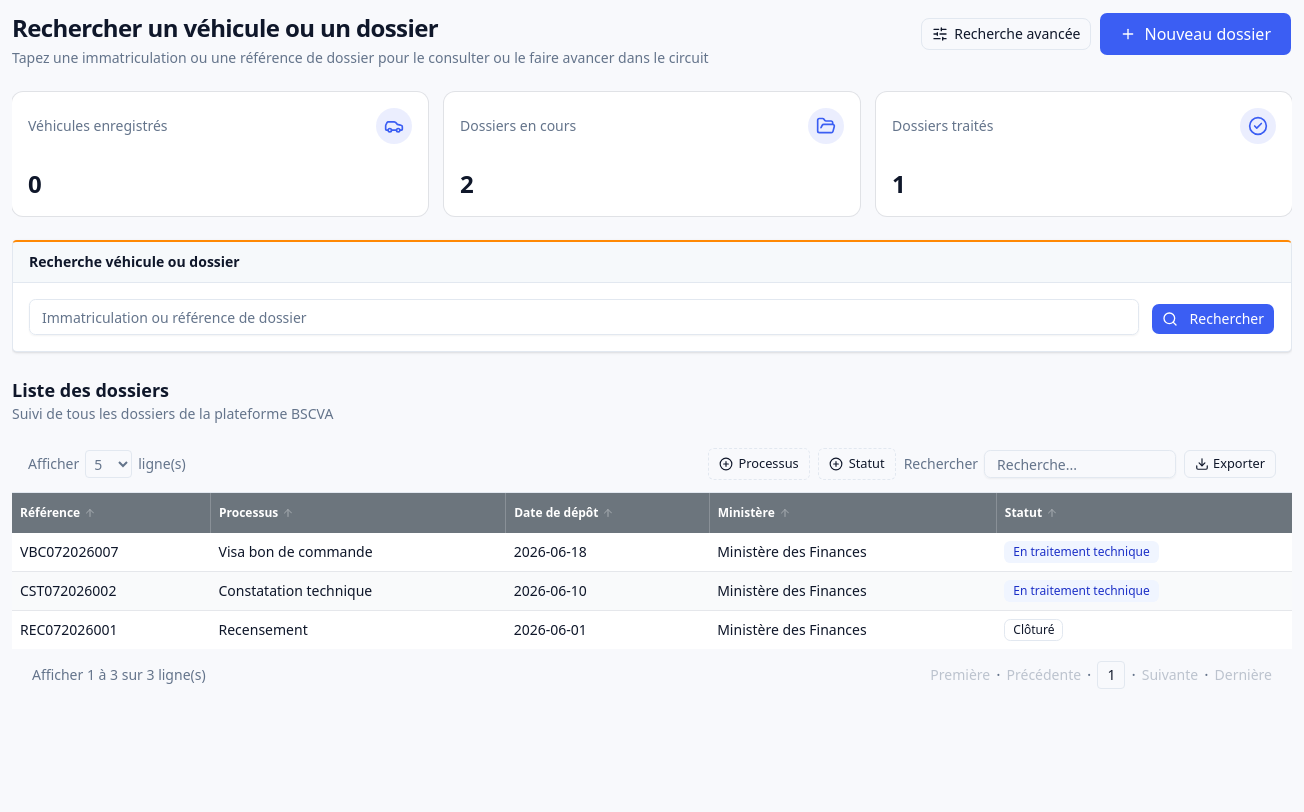
it: TraitementDossierPage — recherche par référence unique › shows a not-found message for an unknown reference
Type "INCONNU0000" into the field with test id "traitement-dossier-search-input". click: (584, 317)
box: [29,299,1139,335]
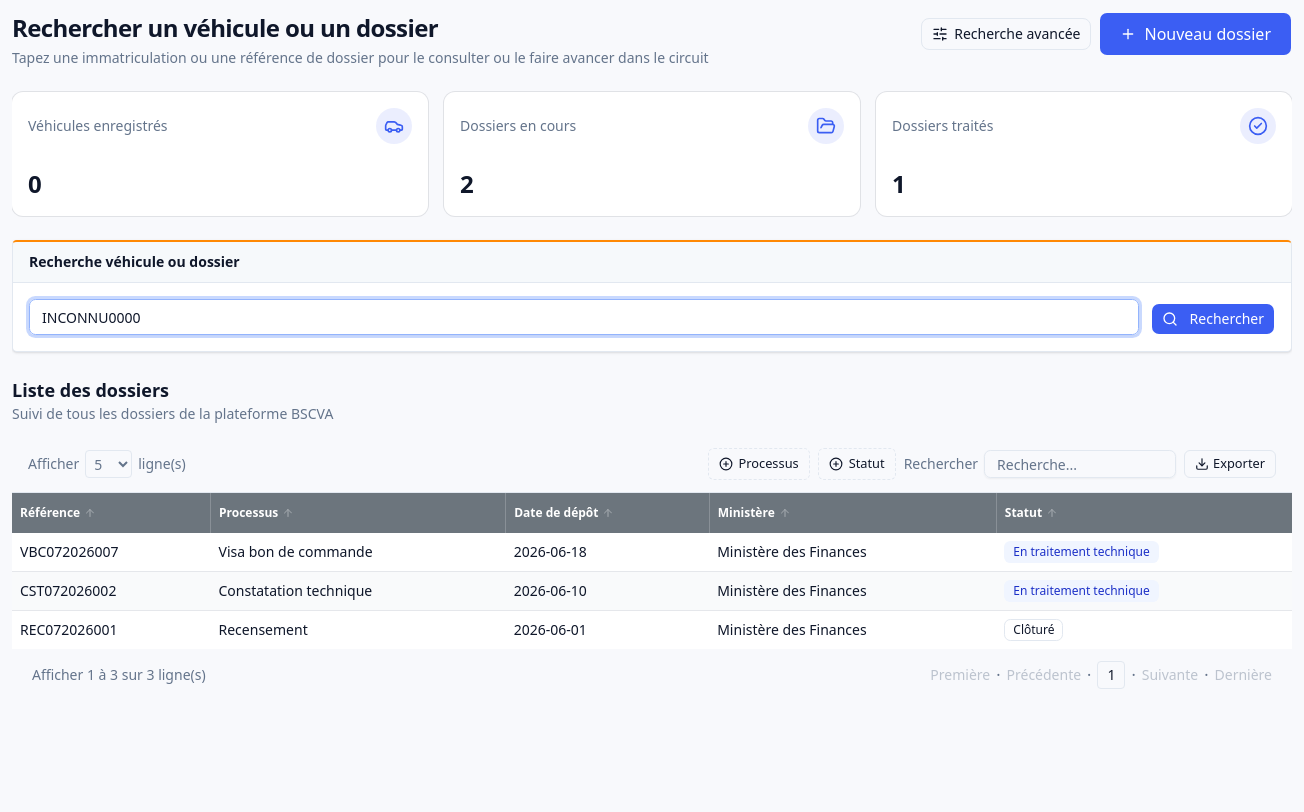
Click the button with test id "traitement-dossier-search-button". click: (1213, 319)
box: [1151,303,1275,335]
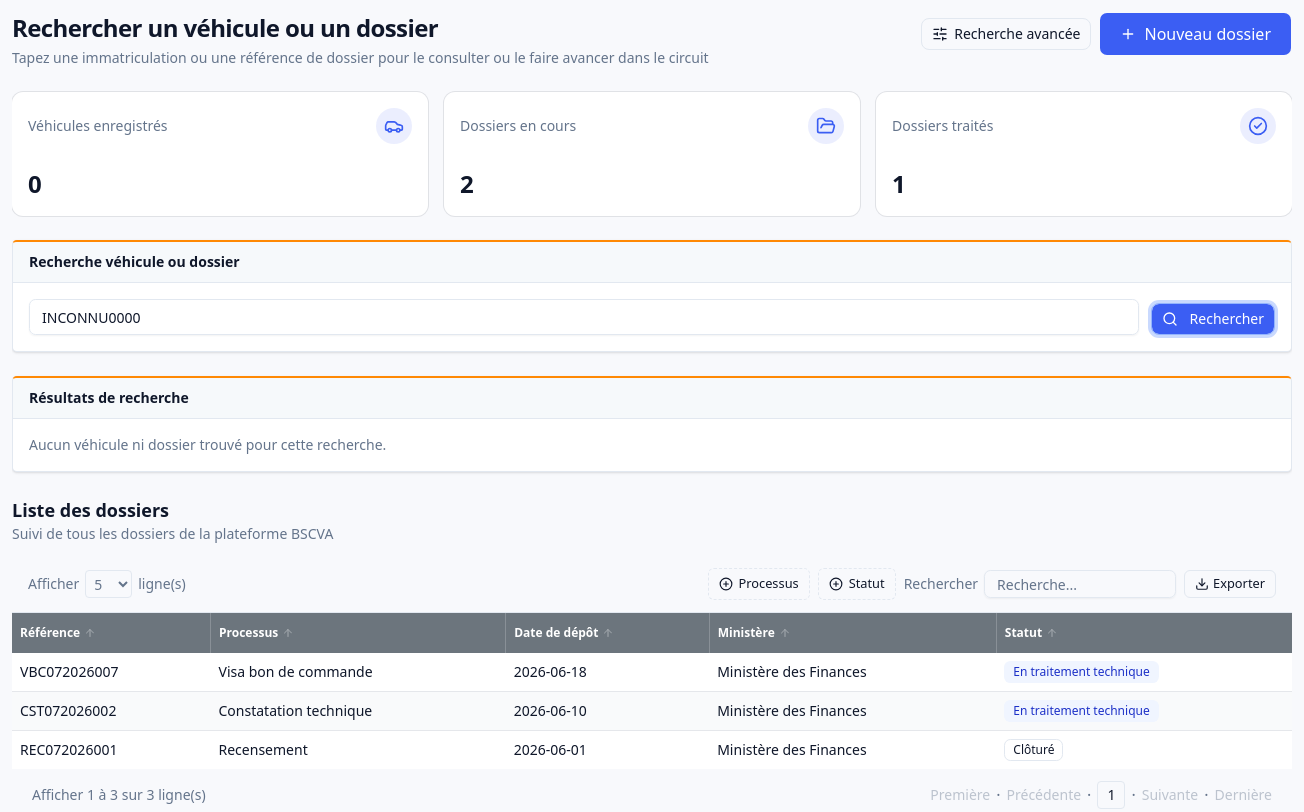
Result: the text "Aucun véhicule ni dossier trouvé pour cette recherche." is shown at [29,435,386,454]
